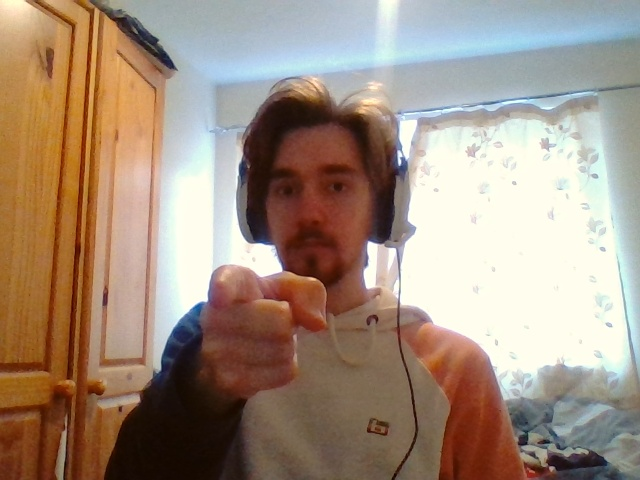you: (200, 265, 326, 394)
